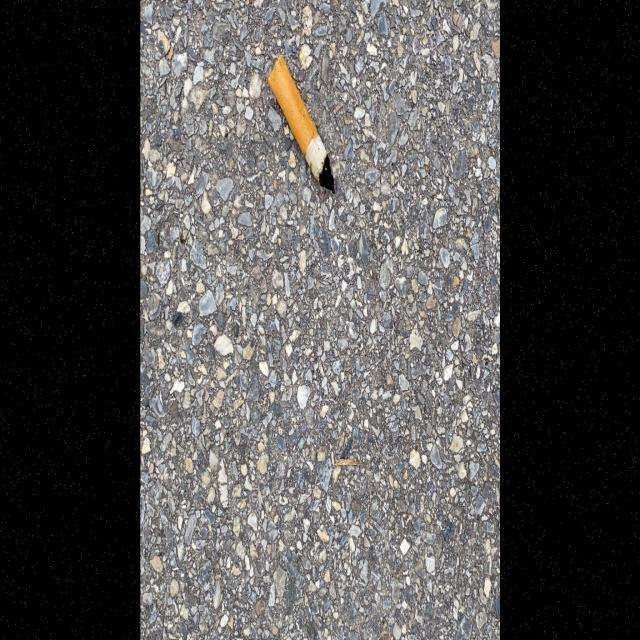other waste: (266, 53, 337, 196)
